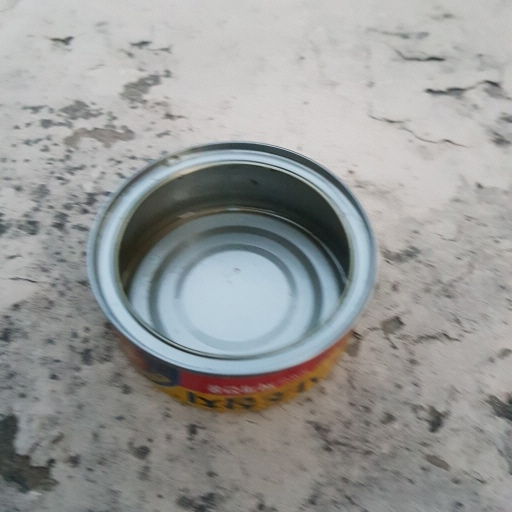Metal_1: (87, 141, 380, 409)
